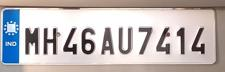1: (175, 27, 190, 58)
4: (62, 25, 80, 55), (156, 26, 171, 58), (192, 25, 207, 56)
6: (81, 25, 96, 56)
7: (137, 23, 154, 56)
A: (99, 24, 116, 58)
H: (42, 26, 59, 57)
M: (23, 26, 42, 57)
U: (117, 24, 134, 56)
